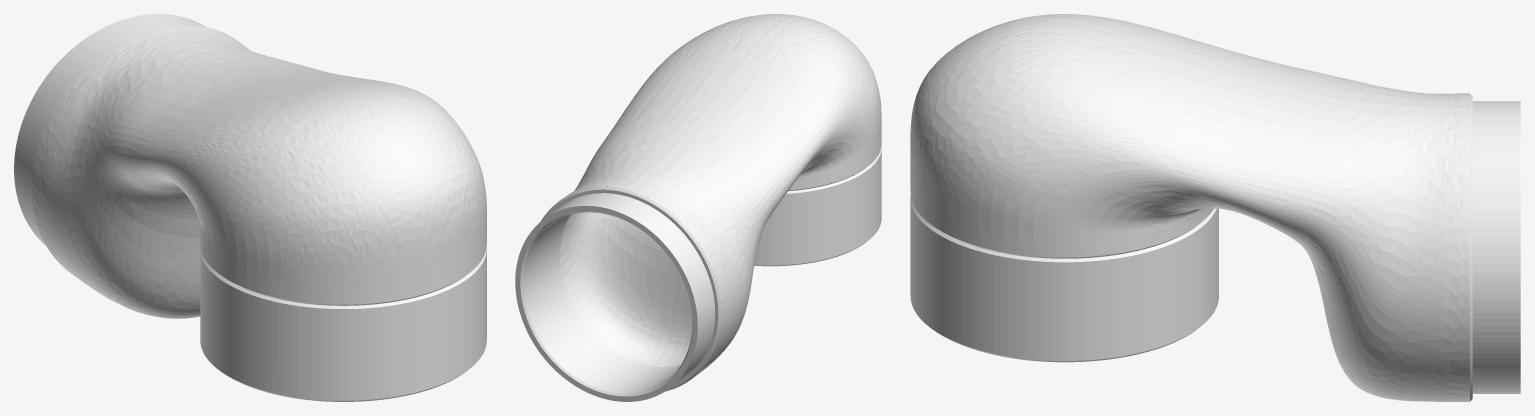
The model's file is Kinova7dof_wrist1.obj.
The picture shows the model from 3 angles, left to right: view 1: azimuth 30°, elevation 25°; view 2: azimuth 150°, elevation 25°; view 3: azimuth 270°, elevation 25°; orthographic projection. The views are drawn at different scales.
Parts seen in each view (by area): view 1: Kinova7dof_wrist1; view 2: Kinova7dof_wrist1; view 3: Kinova7dof_wrist1.
Part boxes in pixels (bbox=[...]): Kinova7dof_wrist1: bbox=[14, 14, 486, 401]; Kinova7dof_wrist1: bbox=[515, 14, 881, 401]; Kinova7dof_wrist1: bbox=[910, 14, 1520, 401].
Size of the model in its own units: 0.07 by 0.0882 by 0.1385.
Materials: 1 (1 with a texture image).
